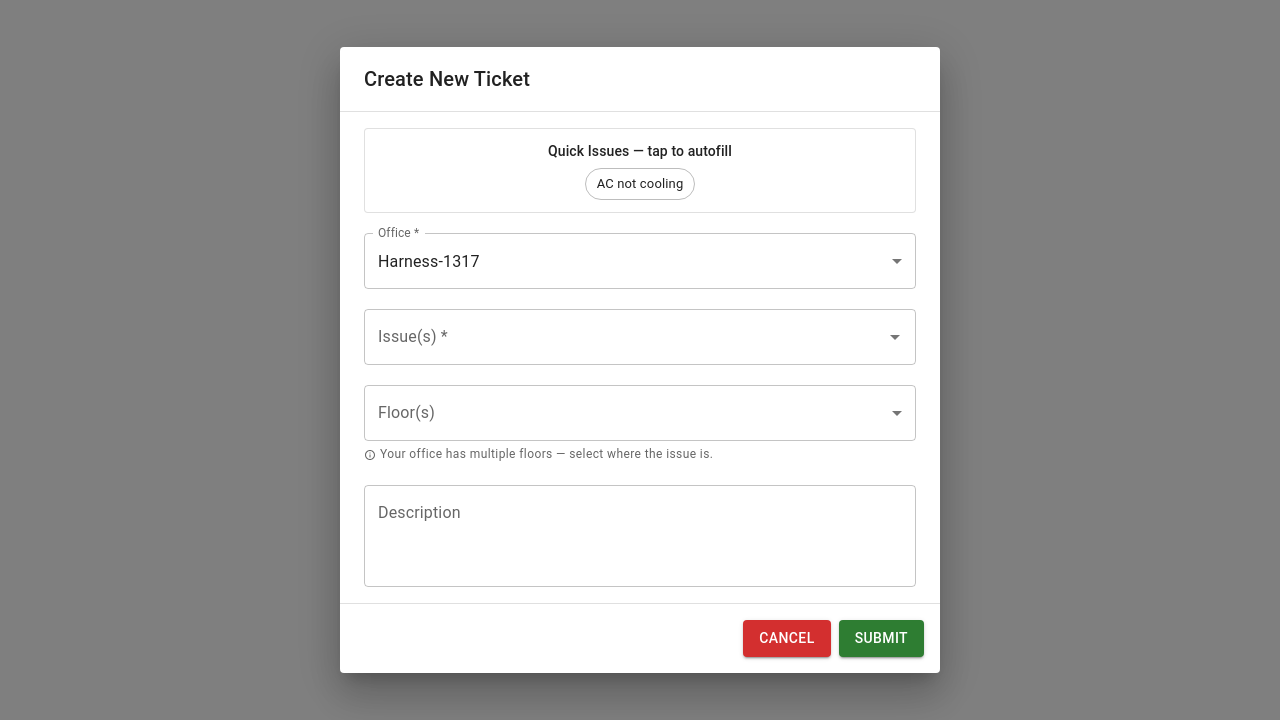
Test: CreateTicketDialog › blocks submission when no issue is selected and shows a field error
The image size is (1280, 720).
Click the button "Submit" at {"x": 881, "y": 638}, box [839, 620, 924, 657]
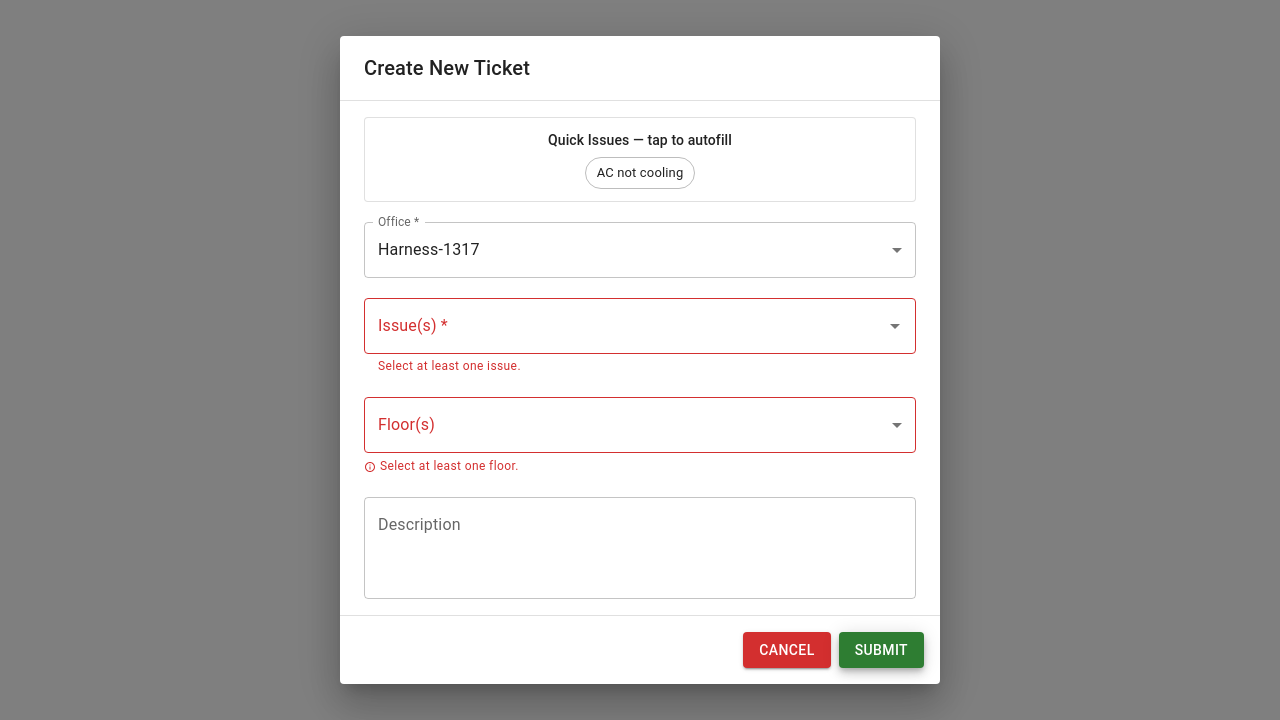
expect the text "Select at least one issue." is shown: met, box [378, 359, 521, 373]
